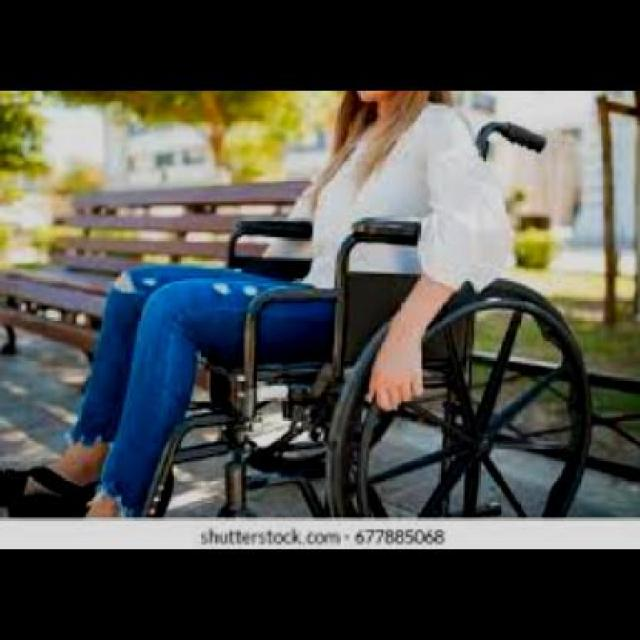wheelchairs: (4, 109, 603, 518)
